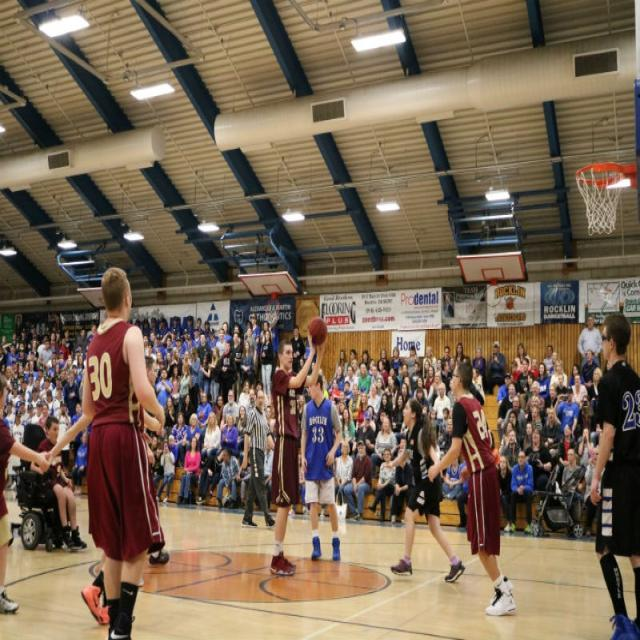body: (79, 263, 170, 639), (46, 407, 163, 628), (424, 358, 518, 617), (0, 314, 98, 491), (589, 308, 639, 638), (267, 316, 329, 579), (382, 395, 467, 584), (0, 371, 51, 616), (298, 371, 344, 562), (29, 413, 88, 551), (142, 354, 172, 568), (237, 386, 279, 530), (130, 313, 216, 364), (366, 444, 397, 524), (343, 437, 372, 520), (508, 448, 534, 537), (583, 444, 606, 539), (456, 450, 481, 532), (560, 446, 586, 524), (524, 427, 553, 492), (552, 383, 581, 448), (4, 407, 26, 491), (391, 446, 414, 524), (177, 436, 202, 507), (576, 312, 604, 369), (215, 447, 240, 510), (556, 421, 578, 490), (216, 339, 238, 407), (178, 411, 204, 467), (54, 401, 72, 478), (334, 440, 354, 506), (155, 438, 175, 504), (229, 330, 245, 410), (374, 416, 396, 474), (186, 346, 202, 425), (200, 409, 222, 466), (259, 328, 274, 409), (198, 346, 215, 416), (71, 431, 89, 495), (262, 431, 276, 512), (354, 408, 376, 459), (497, 454, 512, 527), (498, 394, 526, 433), (542, 407, 562, 460), (577, 426, 593, 490), (432, 382, 450, 436), (154, 366, 174, 414), (500, 429, 522, 472), (441, 456, 462, 501), (427, 369, 448, 413), (63, 367, 81, 418), (219, 388, 240, 431), (238, 338, 254, 394), (250, 312, 262, 386), (220, 412, 240, 456), (208, 344, 222, 406), (290, 324, 307, 375), (581, 348, 599, 396), (496, 371, 518, 409), (70, 402, 83, 466), (576, 394, 595, 437), (340, 406, 356, 457), (502, 407, 522, 447), (168, 362, 182, 418), (196, 389, 213, 435), (498, 381, 518, 420), (178, 360, 192, 413), (384, 365, 399, 414), (551, 372, 570, 410), (534, 360, 552, 400), (242, 325, 258, 370), (269, 317, 280, 382), (590, 419, 604, 470), (524, 380, 545, 414), (570, 372, 588, 411), (355, 360, 373, 399), (586, 366, 604, 404), (488, 340, 507, 376), (548, 358, 569, 390), (422, 364, 436, 412), (439, 417, 454, 461), (348, 382, 362, 429), (354, 391, 369, 434), (498, 419, 516, 454), (294, 356, 307, 404), (375, 392, 393, 426), (358, 404, 378, 434), (169, 410, 187, 443), (51, 383, 66, 422), (307, 358, 328, 385), (384, 373, 398, 413), (392, 393, 406, 432), (422, 343, 438, 377), (296, 394, 306, 448), (366, 382, 382, 415), (237, 378, 253, 411), (197, 330, 213, 363), (162, 396, 175, 436), (516, 358, 530, 394), (472, 366, 486, 402), (180, 392, 194, 428), (568, 362, 587, 388), (542, 344, 556, 379), (441, 359, 454, 396), (213, 392, 226, 428), (405, 345, 419, 378), (472, 346, 487, 376), (343, 362, 358, 392), (331, 362, 346, 392), (334, 347, 349, 377), (390, 344, 404, 376), (412, 375, 429, 401), (216, 320, 234, 344), (236, 404, 250, 434), (244, 386, 258, 416), (215, 327, 228, 359), (452, 341, 463, 378), (520, 420, 534, 449), (376, 348, 390, 377), (548, 350, 558, 388), (366, 357, 376, 395), (231, 323, 245, 349), (265, 404, 276, 437), (342, 378, 354, 408), (378, 358, 390, 388), (410, 362, 422, 391), (386, 377, 401, 400), (509, 359, 522, 384), (440, 345, 452, 371), (371, 362, 384, 386), (414, 387, 429, 407), (330, 377, 342, 402), (528, 403, 542, 424), (527, 357, 541, 378), (516, 341, 528, 365), (334, 389, 348, 409), (358, 348, 370, 371), (243, 320, 254, 344), (400, 380, 410, 406), (345, 348, 357, 369), (404, 374, 414, 398), (350, 358, 362, 378), (262, 320, 272, 344), (441, 406, 450, 432), (338, 398, 347, 422), (376, 376, 386, 397), (422, 358, 432, 378), (400, 362, 411, 380), (398, 435, 408, 450), (428, 408, 438, 422), (530, 394, 540, 407), (254, 378, 264, 390), (606, 358, 614, 371), (434, 358, 442, 371)
